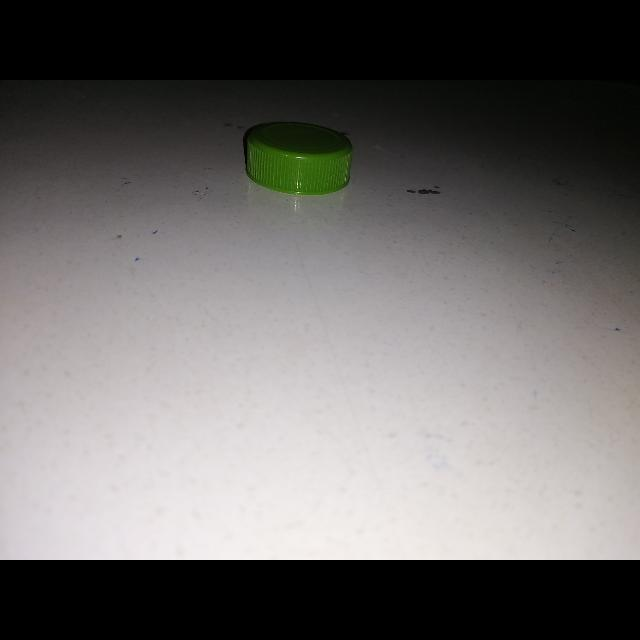plastic_bottle_cap: (245, 120, 353, 194)
